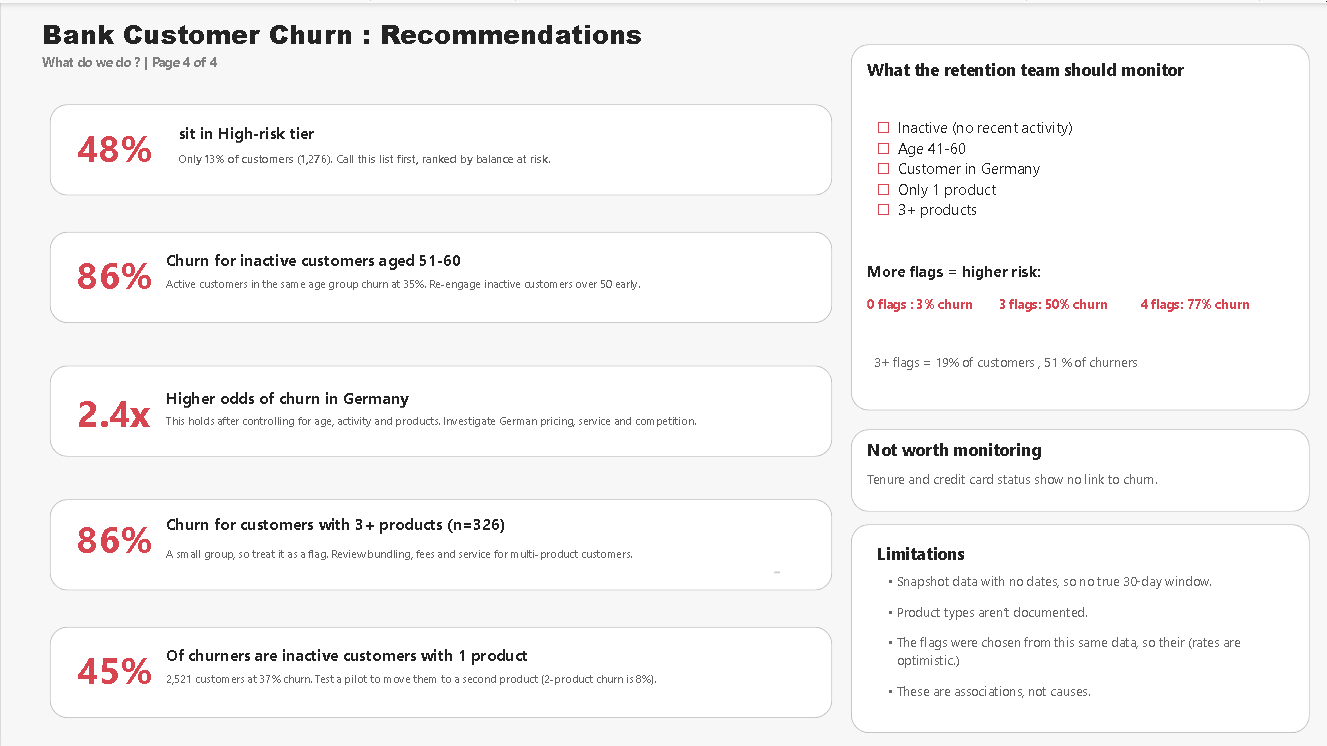

This screenshot's page, from the dashboard's own definition file:
{"tool":"powerbi","page":{"name":"Recommendations","canvas":[1920,1080],"ordinal":3},"visuals":[{"type":"textbox","title":"Bank Customer Churn : Recommendations","box":[59.7,18.1,1860.3,83.2],"z":0},{"type":"shape","box":[69.9,146.2,1132.8,132.1],"z":1000},{"type":"shape","box":[69.9,330.8,1132.8,132.1],"z":2000},{"type":"shape","box":[69.9,524.4,1132.8,132.1],"z":3000},{"type":"shape","box":[69.9,718.1,1132.8,132.1],"z":4000},{"type":"shape","box":[69.9,902.7,1132.8,132.1],"z":5000},{"type":"textbox","box":[109.7,171.6,114,81.4],"z":6000},{"type":"textbox","box":[109.7,356.1,114,106.8],"z":7000},{"type":"textbox","box":[109.7,555.2,114,101.3],"z":8000},{"type":"textbox","box":[109.7,738,128.5,112.2],"z":9000},{"type":"textbox","box":[109.7,928,114,106.8],"z":10000},{"type":"textbox","title":"sit in High-risk tier","box":[256.2,171.6,870.4,81.4],"z":11000},{"type":"textbox","title":"Churn for inactive customers aged 51-60","box":[238.2,356.1,888.5,106.8],"z":12000},{"type":"textbox","title":"Higher odds of churn in Germany","box":[238.2,555.2,870.4,101.3],"z":13000},{"type":"textbox","title":"Churn for customers with 3+ products (n=326)","box":[238.2,738,888.5,86.9],"z":14000},{"type":"textbox","title":"Of churners are inactive customers with 1 product","box":[238.2,928,870.4,106.8],"z":15000},{"type":"shape","box":[1230.6,59.7,664.1,530.2],"z":16000},{"type":"textbox","box":[1254.1,79.6,640.6,65.1],"z":17000},{"type":"shape","box":[1230.6,617.1,664.1,119.4],"z":18000},{"type":"shape","box":[1230.6,754.6,664.1,302.2],"z":19000},{"type":"textbox","box":[1268.6,780,432.5,43.4],"z":20000},{"type":"textbox","box":[1254.1,629.8,447,47.1],"z":21000},{"type":"textbox","box":[1268.6,823.4,597.2,209.9],"z":22000},{"type":"textbox","box":[1254.1,676.8,626.1,39.8],"z":23000},{"type":"textbox","box":[1268.6,144.8,508.5,282.3],"z":24000},{"type":"textbox","box":[1254.1,372.8,611.7,197.3],"z":25000}]}

Visuals, with their boxes in screenshot pixels (x1, y1, x2, y2), scaled from the page's 1920x1080 canvas onto the 1327x746 screenshot:
"Bank Customer Churn : Recommendations" textbox: pyautogui.locateOnScreen(41, 13, 1326, 70)
shape: pyautogui.locateOnScreen(48, 101, 831, 192)
shape: pyautogui.locateOnScreen(48, 228, 831, 320)
shape: pyautogui.locateOnScreen(48, 362, 831, 453)
shape: pyautogui.locateOnScreen(48, 496, 831, 587)
shape: pyautogui.locateOnScreen(48, 624, 831, 715)
textbox: pyautogui.locateOnScreen(76, 119, 155, 175)
textbox: pyautogui.locateOnScreen(76, 246, 155, 320)
textbox: pyautogui.locateOnScreen(76, 383, 155, 453)
textbox: pyautogui.locateOnScreen(76, 510, 165, 587)
textbox: pyautogui.locateOnScreen(76, 641, 155, 715)
"sit in High-risk tier" textbox: pyautogui.locateOnScreen(177, 119, 779, 175)
"Churn for inactive customers aged 51-60" textbox: pyautogui.locateOnScreen(165, 246, 779, 320)
"Higher odds of churn in Germany" textbox: pyautogui.locateOnScreen(165, 383, 766, 453)
"Churn for customers with 3+ products (n=326)" textbox: pyautogui.locateOnScreen(165, 510, 779, 570)
"Of churners are inactive customers with 1 product" textbox: pyautogui.locateOnScreen(165, 641, 766, 715)
shape: pyautogui.locateOnScreen(851, 41, 1310, 407)
textbox: pyautogui.locateOnScreen(867, 55, 1310, 100)
shape: pyautogui.locateOnScreen(851, 426, 1310, 509)
shape: pyautogui.locateOnScreen(851, 521, 1310, 730)
textbox: pyautogui.locateOnScreen(877, 539, 1176, 569)
textbox: pyautogui.locateOnScreen(867, 435, 1176, 468)
textbox: pyautogui.locateOnScreen(877, 569, 1290, 714)
textbox: pyautogui.locateOnScreen(867, 467, 1299, 495)
textbox: pyautogui.locateOnScreen(877, 100, 1228, 295)
textbox: pyautogui.locateOnScreen(867, 258, 1290, 394)
